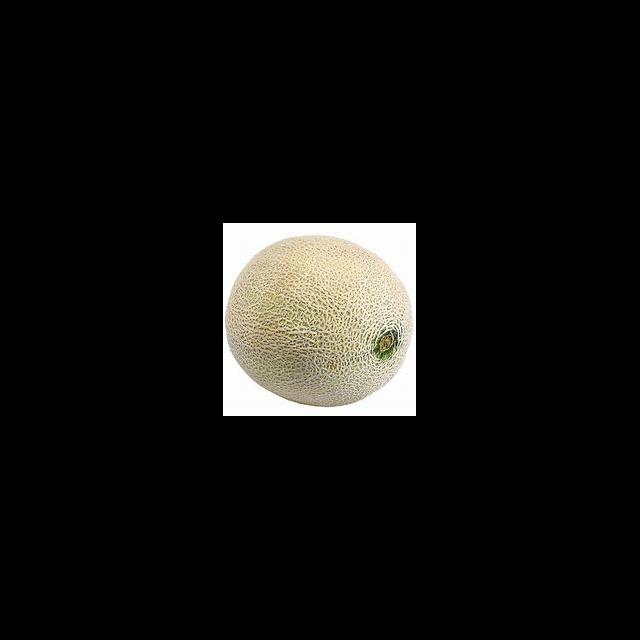Hami Melon: (225, 235, 414, 408)
